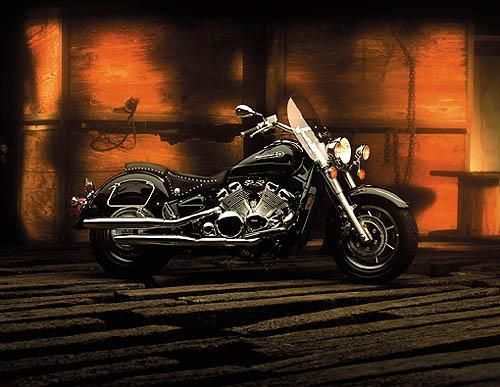motorcycle: (67, 85, 420, 287)
